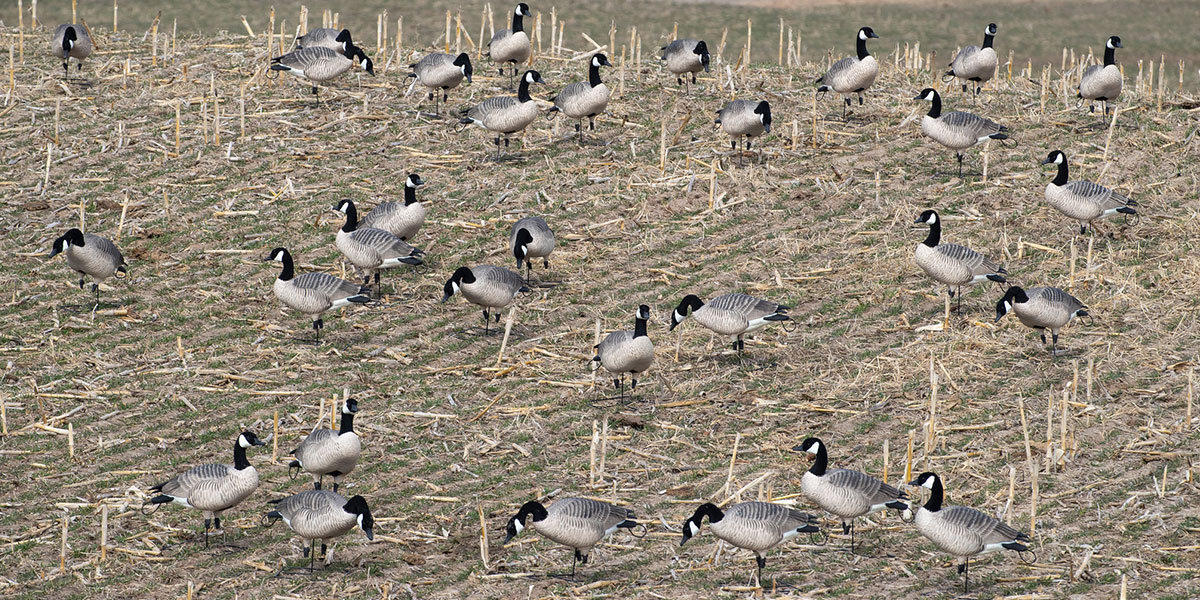goose: (131, 424, 266, 547), (910, 465, 1036, 585), (788, 430, 909, 543), (675, 493, 818, 581), (497, 489, 638, 571), (1031, 144, 1141, 240), (663, 279, 795, 354), (258, 247, 371, 332), (906, 206, 1000, 307), (266, 483, 389, 560), (283, 393, 375, 489), (912, 85, 1013, 170), (457, 67, 553, 153), (326, 198, 426, 276), (586, 300, 662, 391), (996, 278, 1091, 348), (44, 223, 135, 293), (813, 23, 884, 110), (269, 46, 375, 102), (1072, 31, 1135, 119), (441, 264, 533, 323), (561, 46, 616, 129), (44, 14, 107, 85), (946, 19, 1006, 86), (365, 168, 432, 228), (409, 41, 473, 103), (480, 1, 536, 70), (716, 94, 781, 149), (650, 32, 713, 87), (509, 213, 564, 271), (294, 19, 366, 48)
